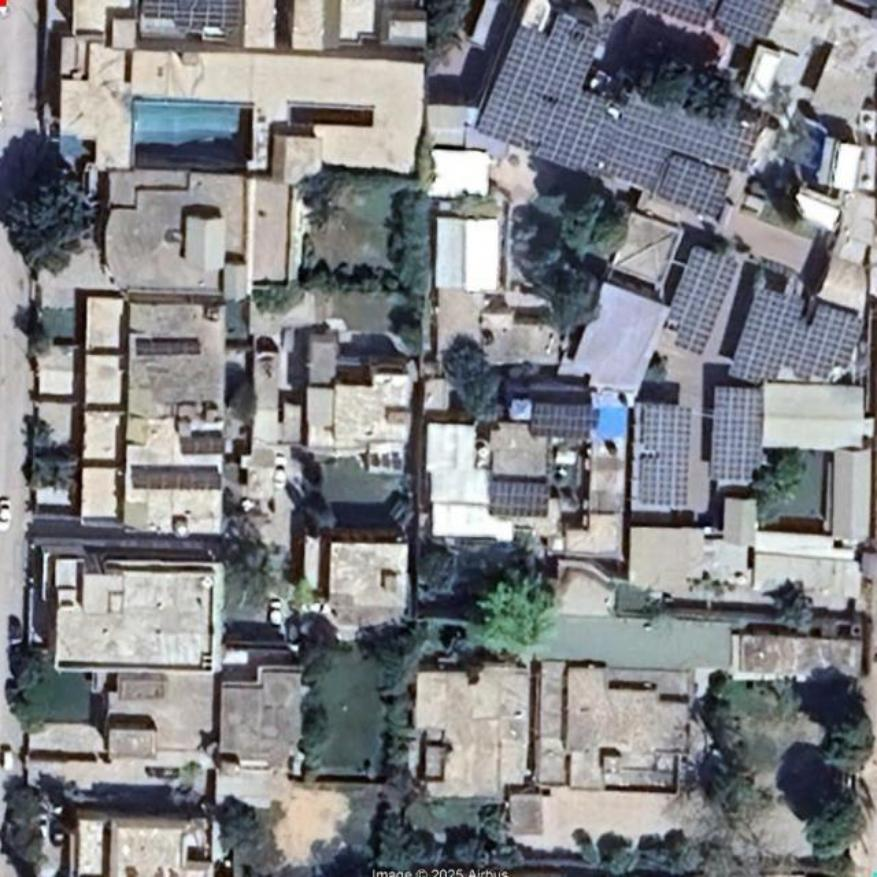Solarpanel: (475, 0, 644, 177), (734, 292, 866, 387), (657, 250, 740, 357), (601, 97, 685, 191), (631, 0, 784, 50), (634, 406, 689, 513), (713, 386, 762, 483), (659, 154, 730, 219), (675, 120, 757, 173), (139, 0, 248, 28), (528, 402, 595, 441), (489, 479, 549, 518)
